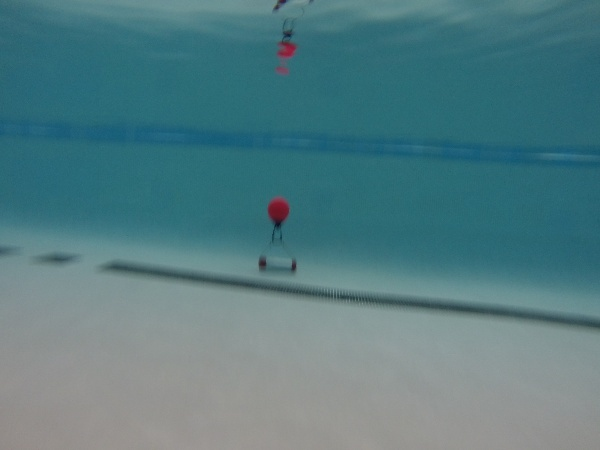buoy_red: (266, 195, 290, 228)
